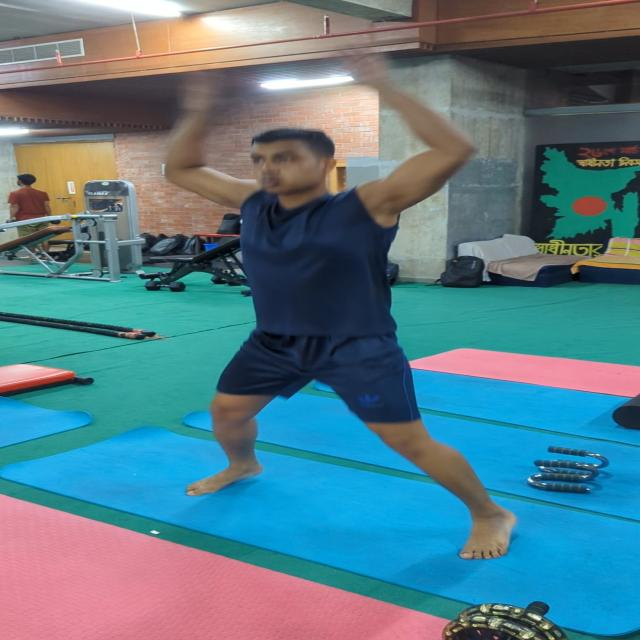Normal_JumpingJacks: (146, 55, 522, 559)
